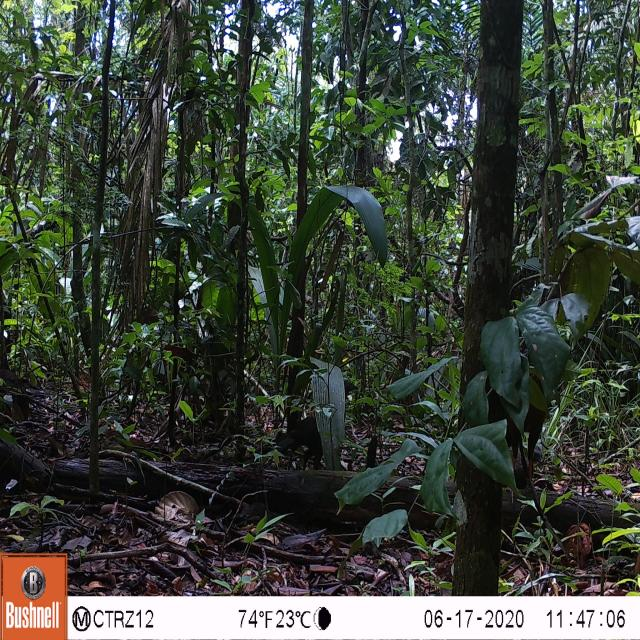Spixs Guan: (268, 401, 323, 469)
